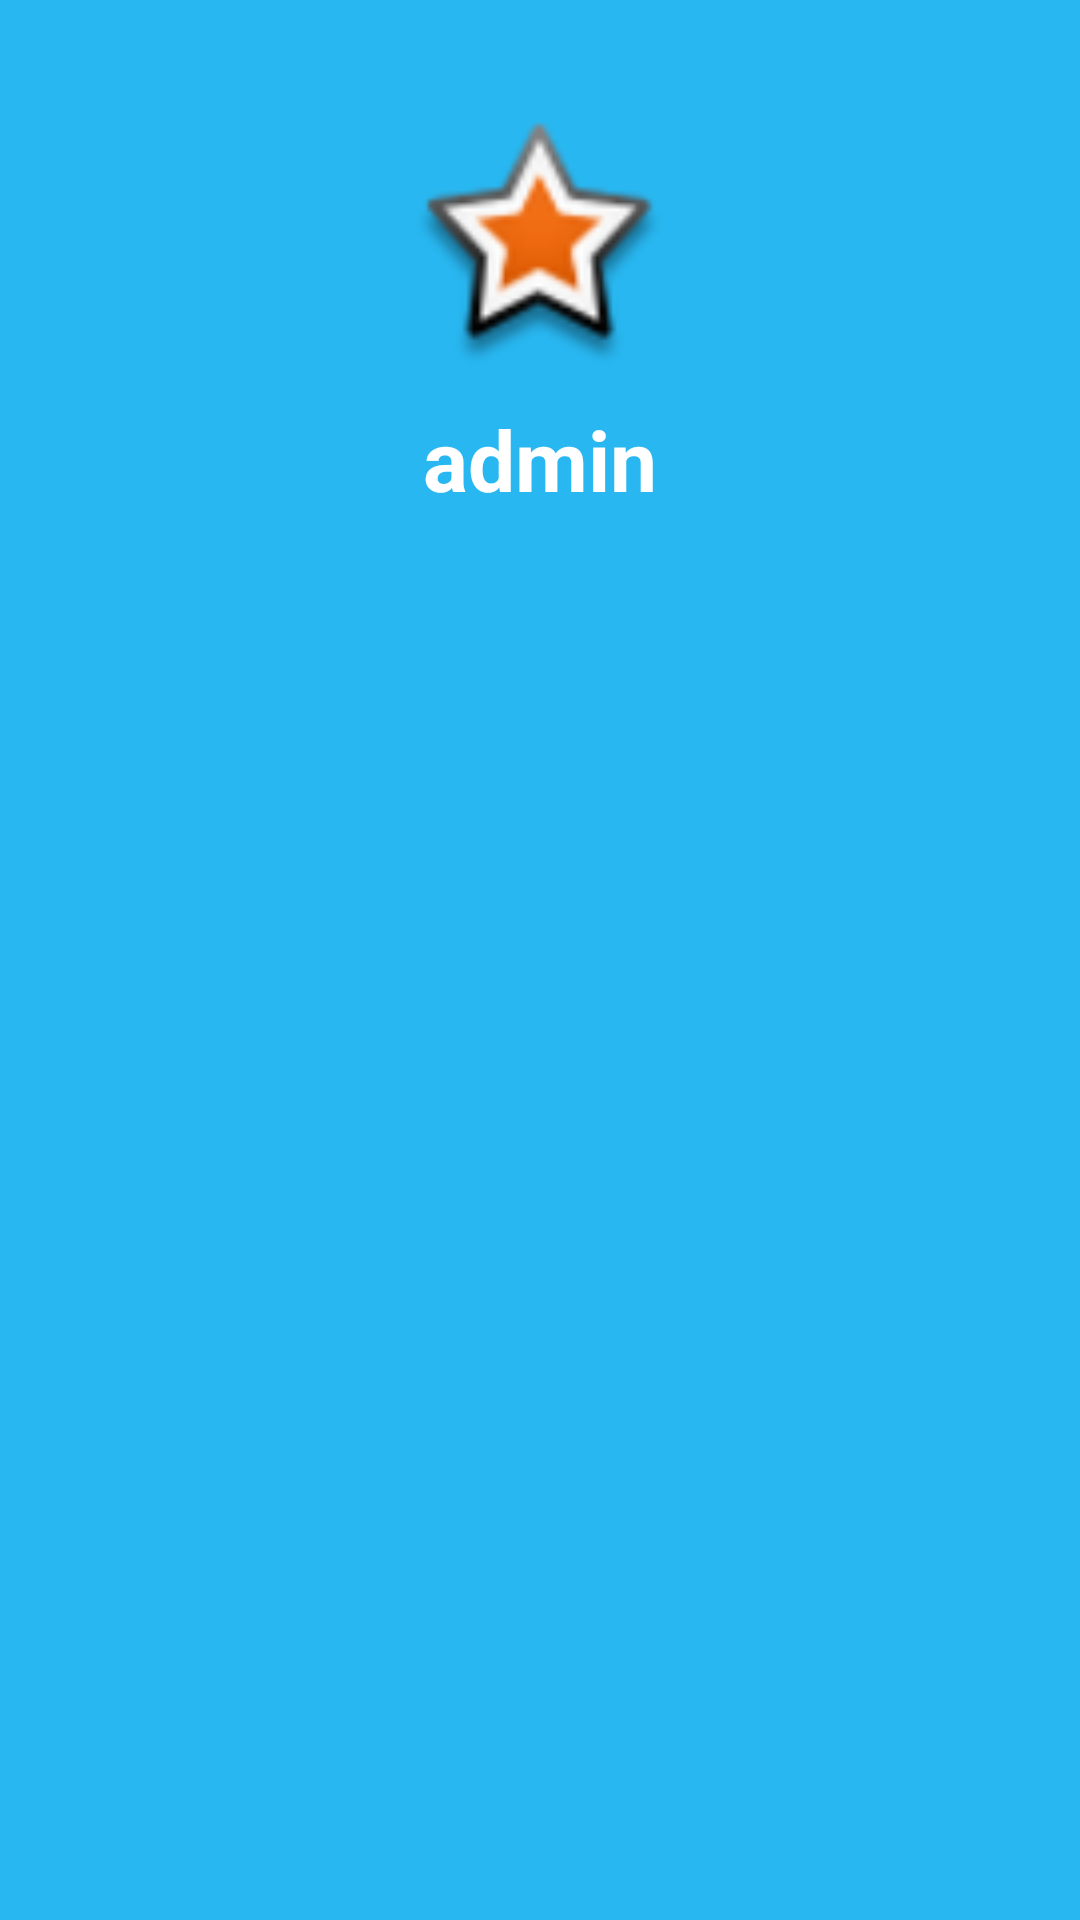

Icons on this 1080 × 1920 Android screen, each with the point to tap as (x,y):
star on: (539,238)
